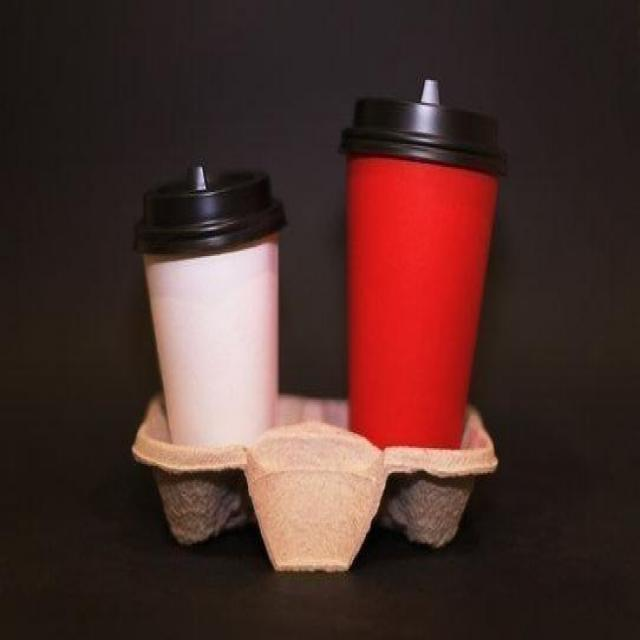cup-disposable: (338, 76, 508, 454), (132, 160, 288, 448)
